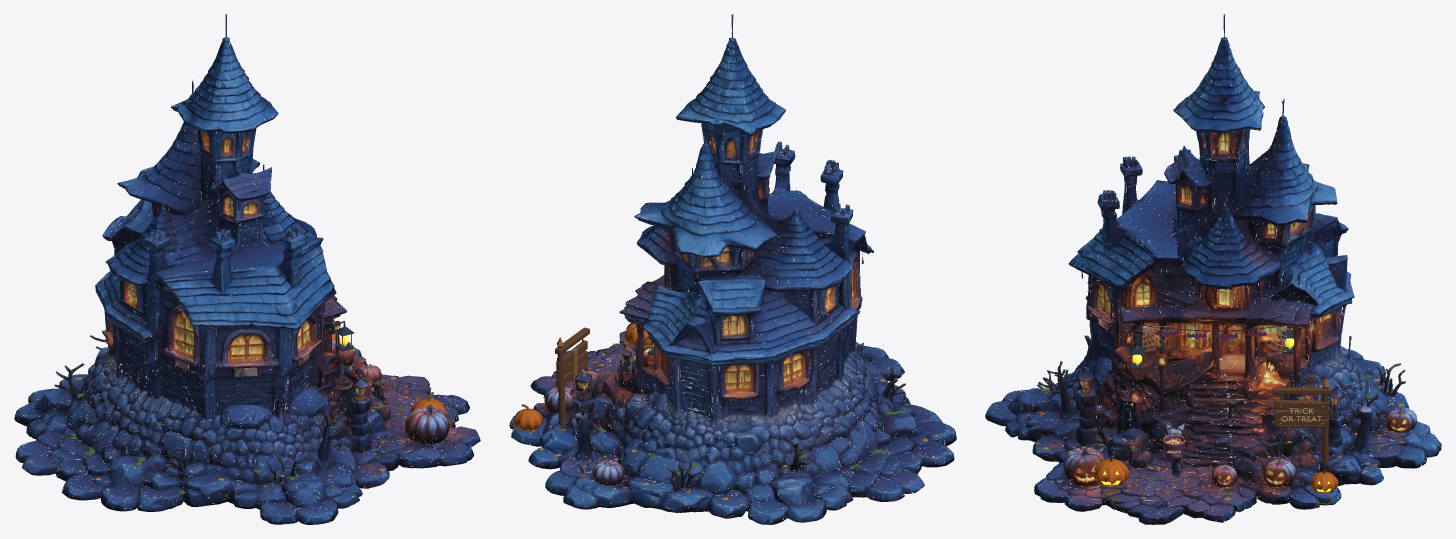
The model's file is Halloween1_Detailed_Mobile.glb.
3 renders of one model, left to right at view 1: azimuth 30°, elevation 25°; view 2: azimuth 150°, elevation 25°; view 3: azimuth 270°, elevation 25°, orthographic. The views are drawn at different scales.
Parts seen in each view (by area): view 1: House_Original_Textured; view 2: House_Original_Textured, Sign_Board, Sign_Support, Pumpkin_Carved_B; view 3: House_Original_Textured, Sign_Board, Sign_Support, Pumpkin_Carved_A, Bat_Garland, Cobwebs, Candy_Bucket.
Part boxes in pixels (box(x1,y1,x2,y2)): House_Original_Textured: box(14, 14, 480, 524); House_Original_Textured: box(509, 14, 956, 524); Sign_Board: box(556, 339, 587, 388); Sign_Support: box(555, 327, 589, 426); Pumpkin_Carved_B: box(514, 404, 542, 431); House_Original_Textured: box(985, 14, 1441, 524); Sign_Board: box(1274, 394, 1328, 428); Sign_Support: box(1272, 378, 1330, 463); Pumpkin_Carved_A: box(1093, 456, 1129, 487); Bat_Garland: box(1143, 325, 1287, 339); Cobwebs: box(1142, 326, 1286, 351); Candy_Bucket: box(1162, 426, 1185, 461).
Size of the model in its own units: 9.58 by 9.57 by 9.59.
18 materials, 1 textured.
